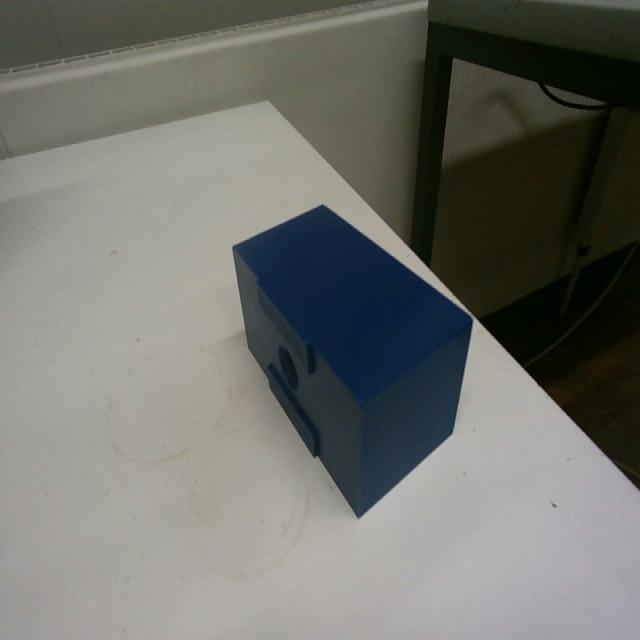Blue Cuboid: (229, 198, 474, 518)
